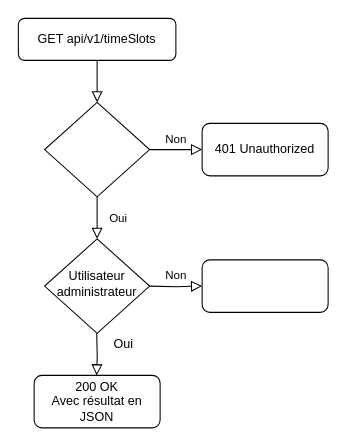
This 346x446 diagram has some shape labels left out. The centre of each missing label's shape, as x and y in pixels:
"403 Forbidden" belongs at pixel 264 285.
"Header Authorization présent" belongs at pixel 97 149.
